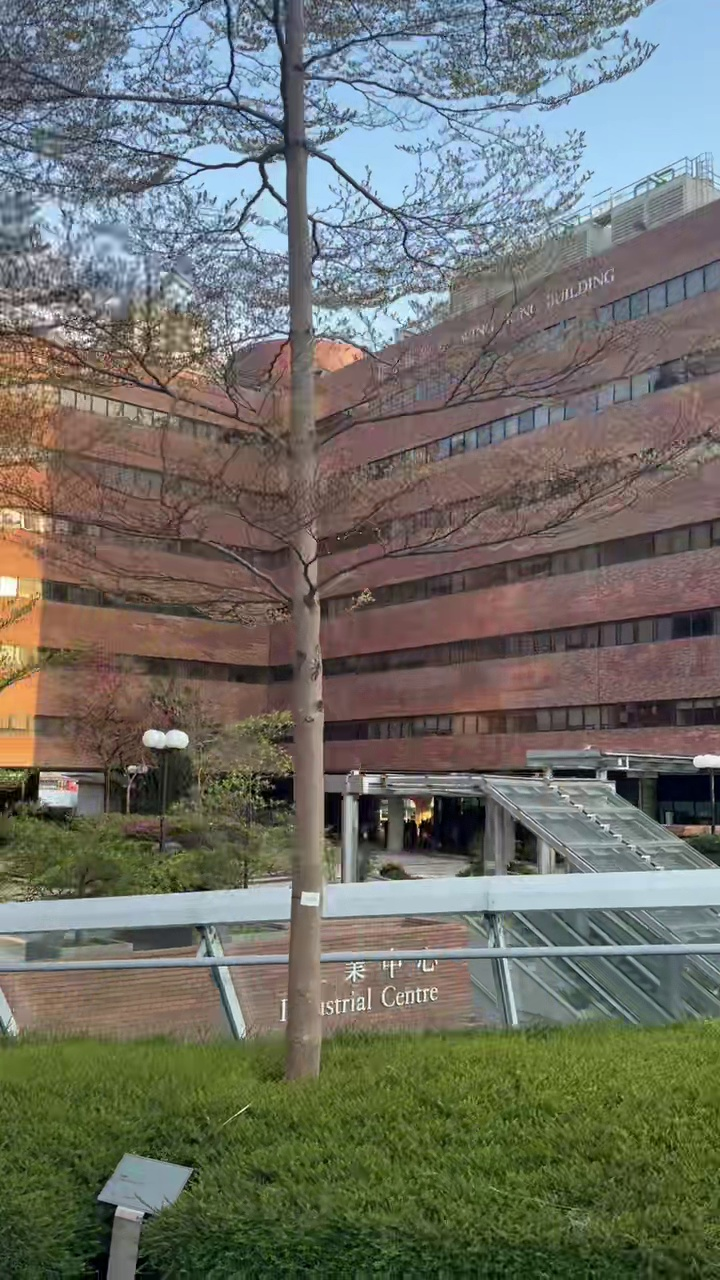Terminalia mantaly: (0, 0, 661, 1077)
